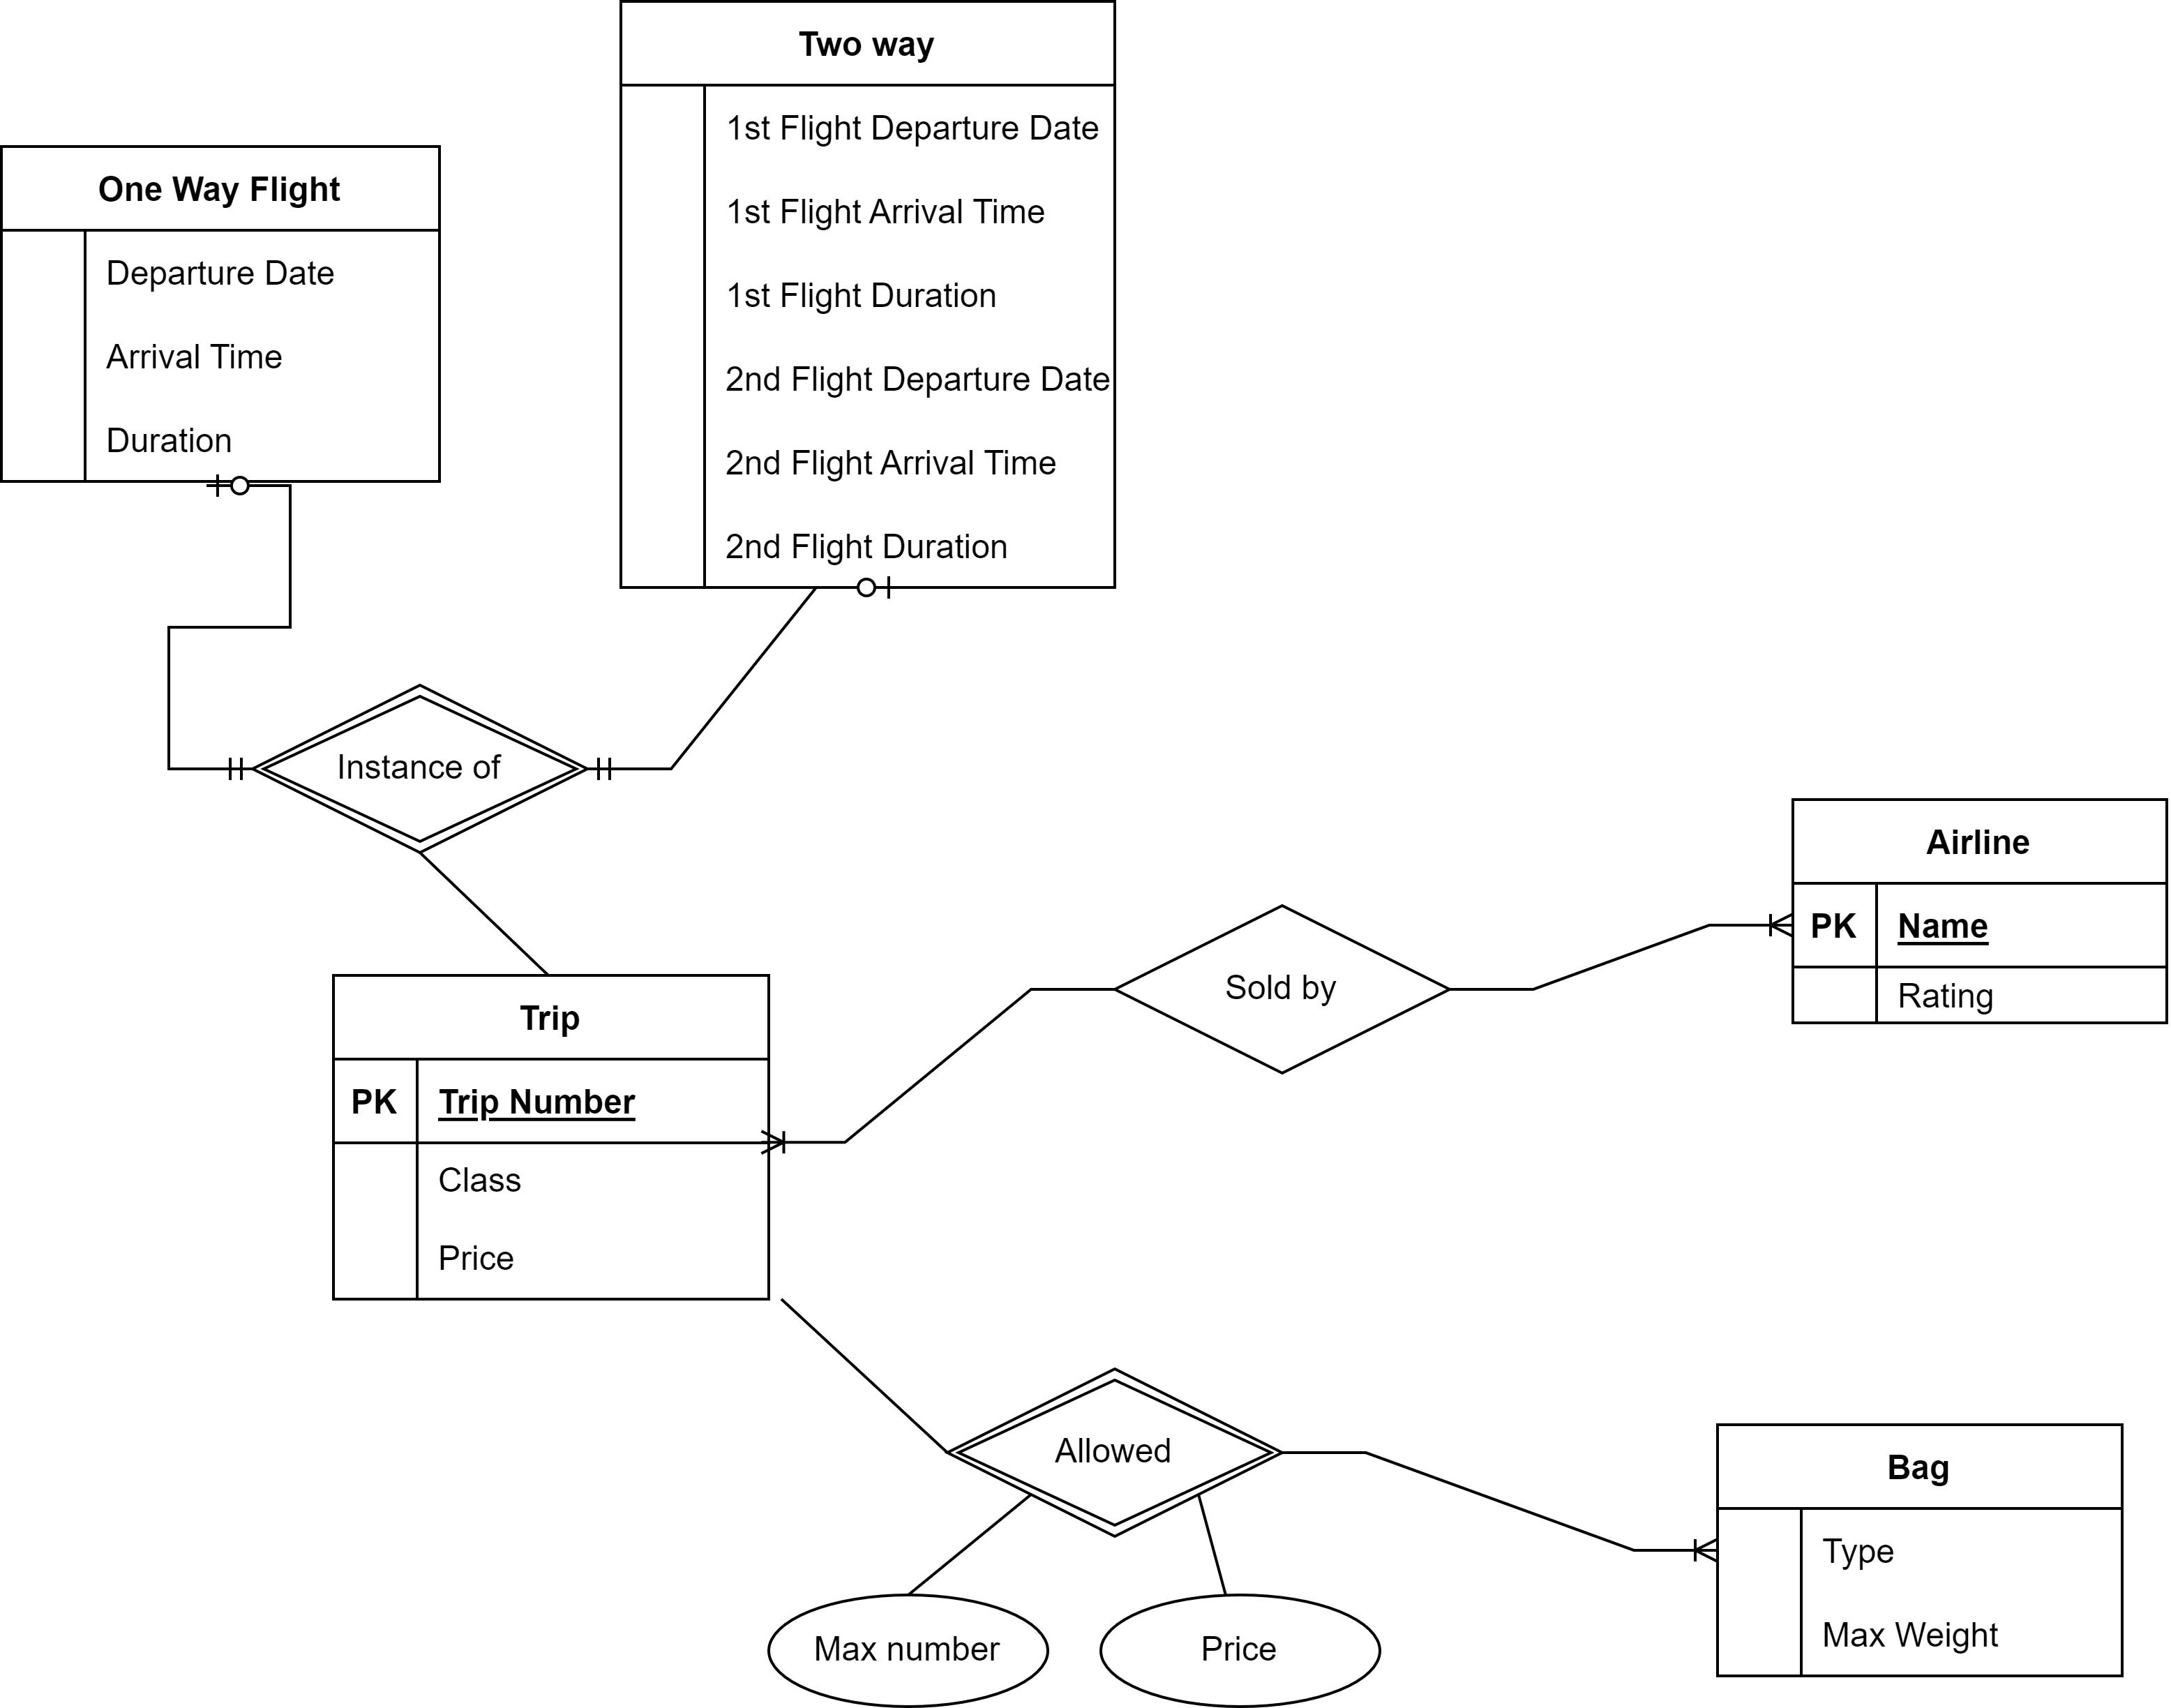attribute: (1103, 1593, 1389, 1708), (765, 1592, 1043, 1708)
entity: (615, 0, 1123, 590), (0, 145, 448, 488), (326, 971, 775, 1303), (1711, 1419, 2129, 1689), (1790, 798, 2169, 1028)
relationship: (1117, 899, 1441, 1073)
weakrelationship: (943, 1370, 1279, 1539), (256, 684, 587, 850)
